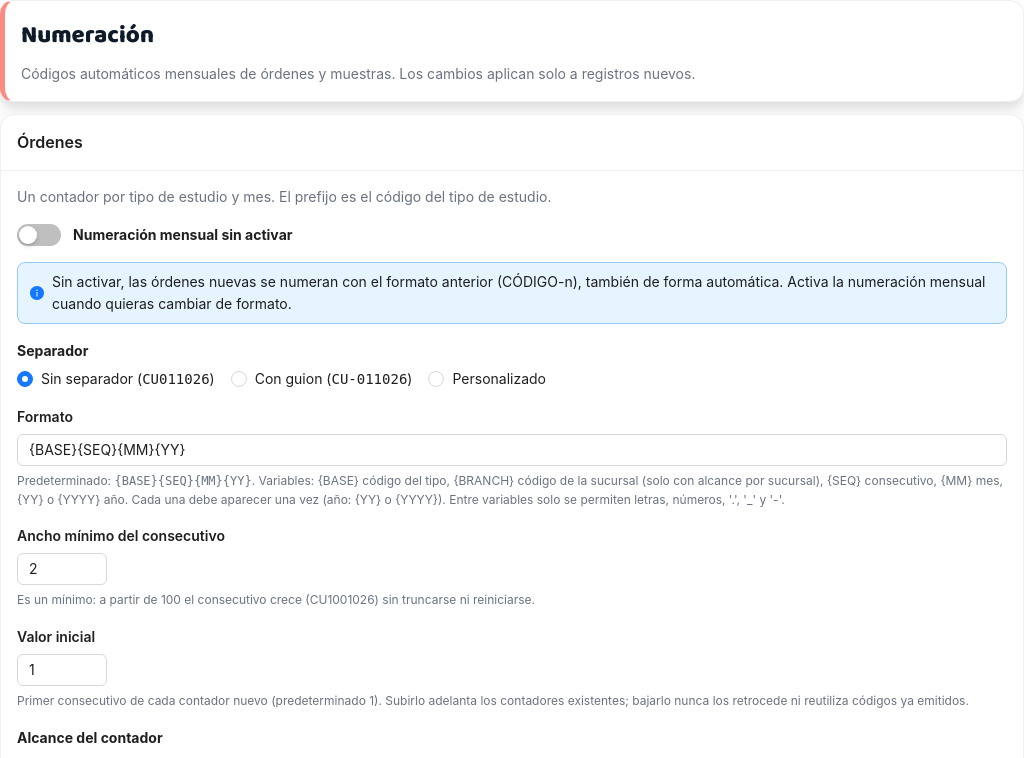
Scenario: numbering settings page › offers both separator presets: no separator (CU011026) and hyphen (CU-011026)
The width and height of the screenshot is (1024, 758).
Expected: the text "CU011026" is shown, [142,371,210,387]
Expected: the text "CU-011026" is shown, [332,371,407,387]
Click the radio button labelled "Con guion (CU-011026)" at (326, 379), box [231,368,420,390]
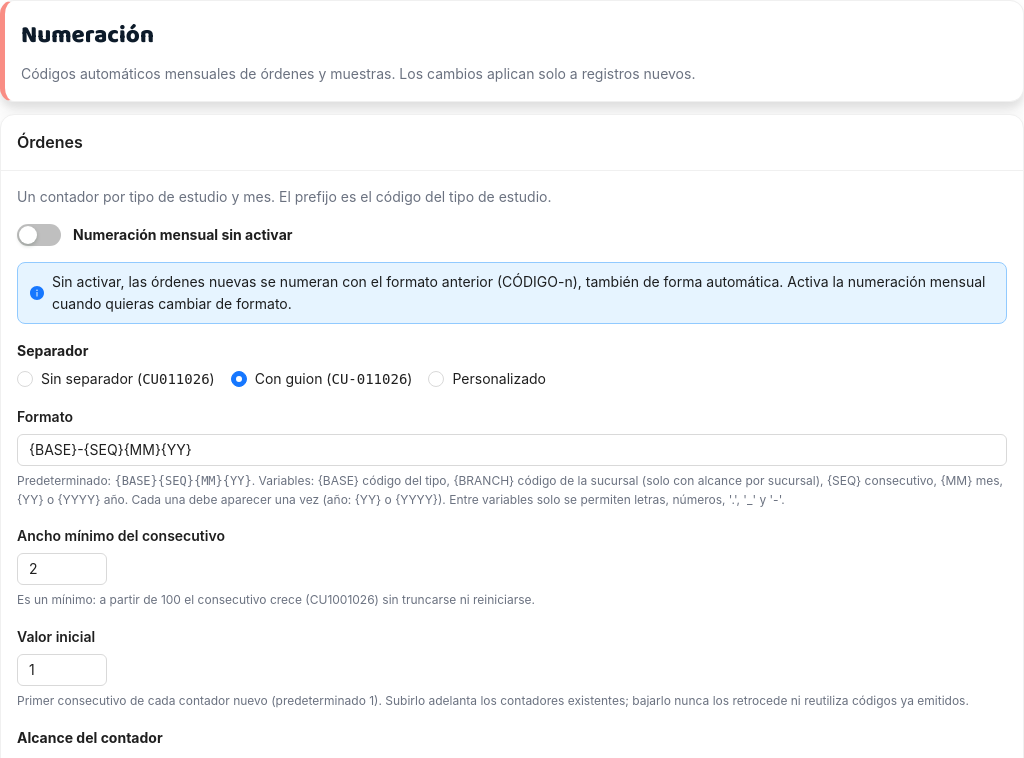
Expected: the field labelled "Formato" holds "{BASE}-{SEQ}{MM}{YY}", [17,434,1007,466]
Click the radio button labelled "Sin separador (CU011026)" at (120, 379), box [17,368,223,390]
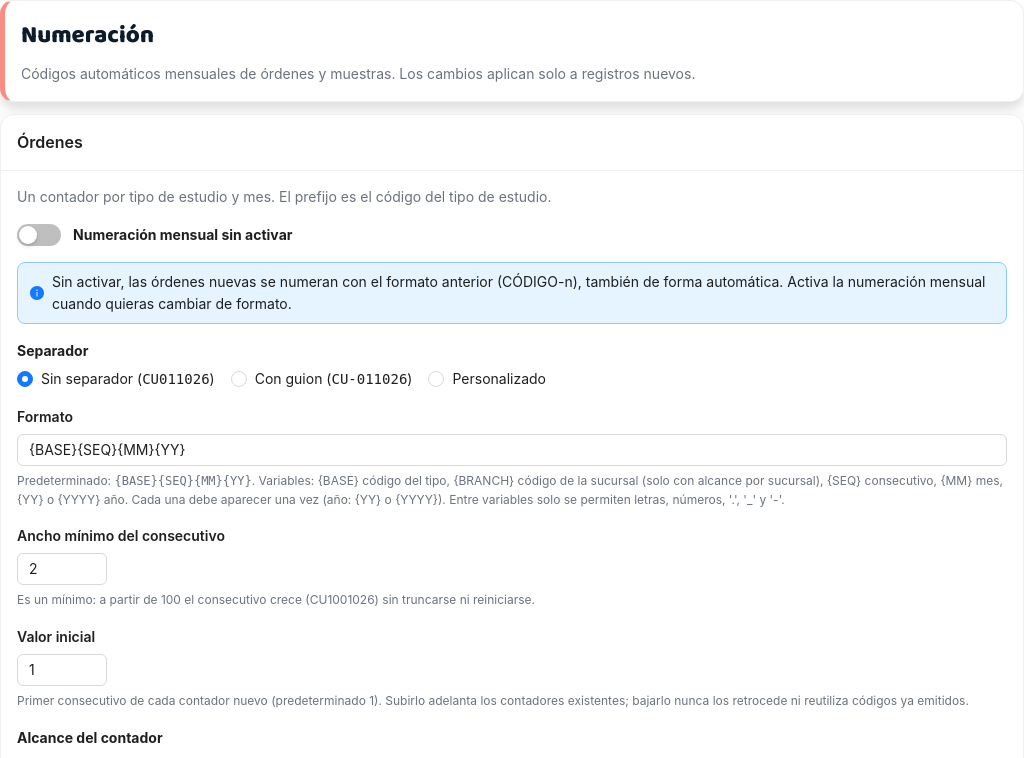
Expected: the field labelled "Formato" holds "{BASE}{SEQ}{MM}{YY}", [17,434,1007,466]
